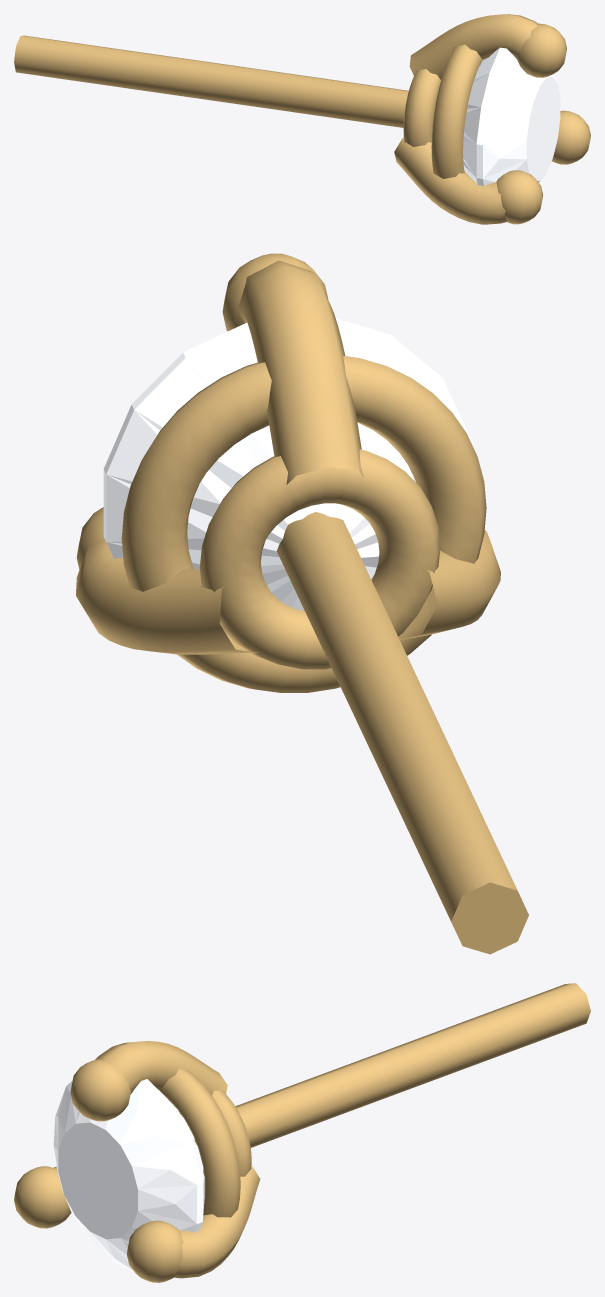
Rendered from nosepin-solitaire.glb.
The picture shows the model from 3 angles, top to bottom: view 1: azimuth 30°, elevation 25°; view 2: azimuth 150°, elevation 25°; view 3: azimuth 270°, elevation 25°; orthographic projection. The views are drawn at different scales.
Parts seen in each view (by area): view 1: nosepin-solitaire_gold18k, nosepin-solitaire_diamond; view 2: nosepin-solitaire_gold18k, nosepin-solitaire_diamond; view 3: nosepin-solitaire_gold18k, nosepin-solitaire_diamond.
Part boxes in pixels (x1,y1,x2,y2): nosepin-solitaire_gold18k: (14,14,590,224); nosepin-solitaire_diamond: (463,47,560,185); nosepin-solitaire_gold18k: (76,253,528,954); nosepin-solitaire_diamond: (103,318,473,610); nosepin-solitaire_gold18k: (14,983,590,1282); nosepin-solitaire_diamond: (53,1079,204,1271).
Size of the model in its own units: 0.5781 by 0.2692 by 0.631.
